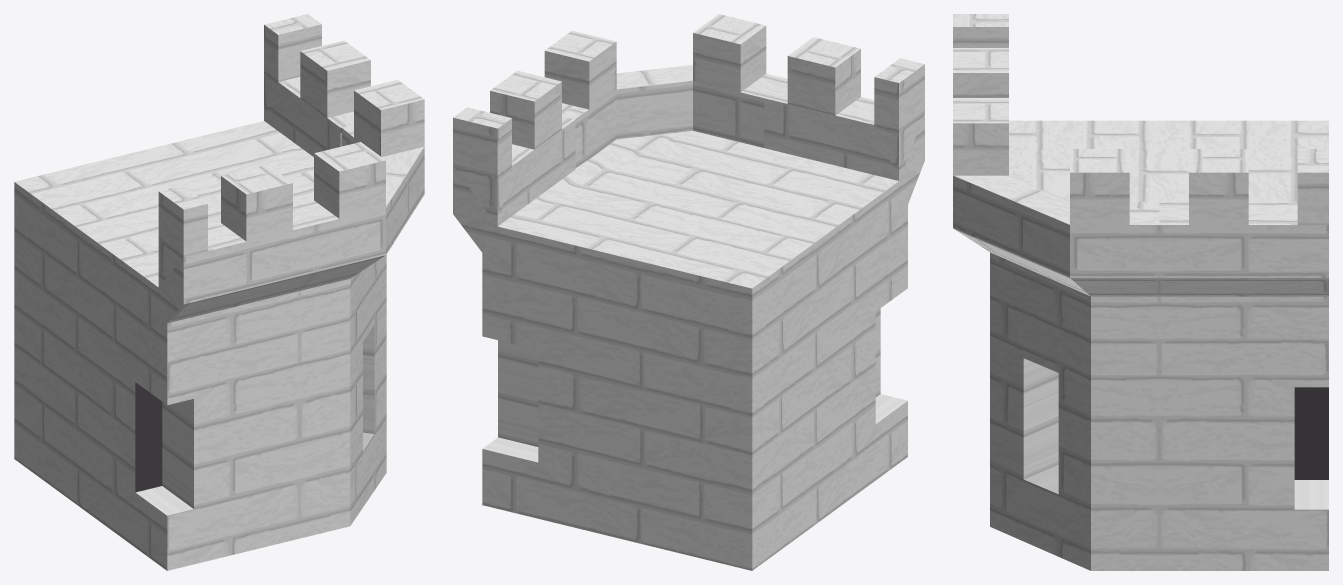
Rendered from castle_type_f.gltf.
3 renders of one model, left to right at view 1: azimuth 30°, elevation 25°; view 2: azimuth 150°, elevation 25°; view 3: azimuth 270°, elevation 25°, orthographic. The views are drawn at different scales.
Visible parts, largest first — view 1: Type_F; view 2: Type_F; view 3: Type_F.
Boxes of the visible parts, x1,y1,x2,y2 form: Type_F: (14,14,424,570); Type_F: (453,14,924,570); Type_F: (953,14,1328,570).
Size of the model in its own units: 1.11 by 1.35 by 1.11.
2 materials, 1 textured.
